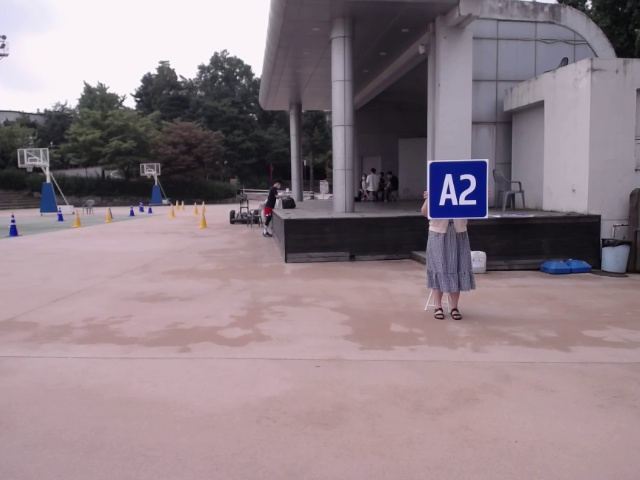delivery_a2: (428, 159, 488, 220)
